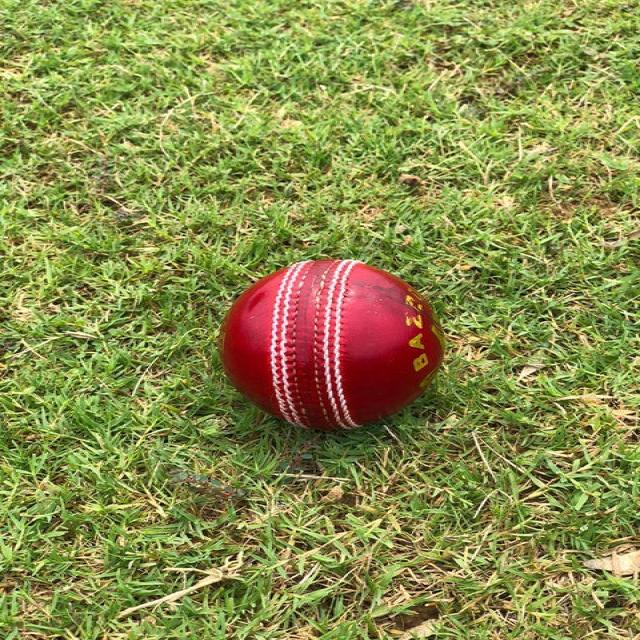ball: (217, 253, 452, 442)
